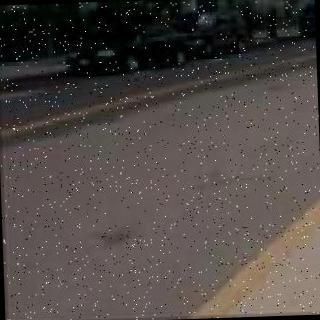smoke: (276, 0, 317, 85)
